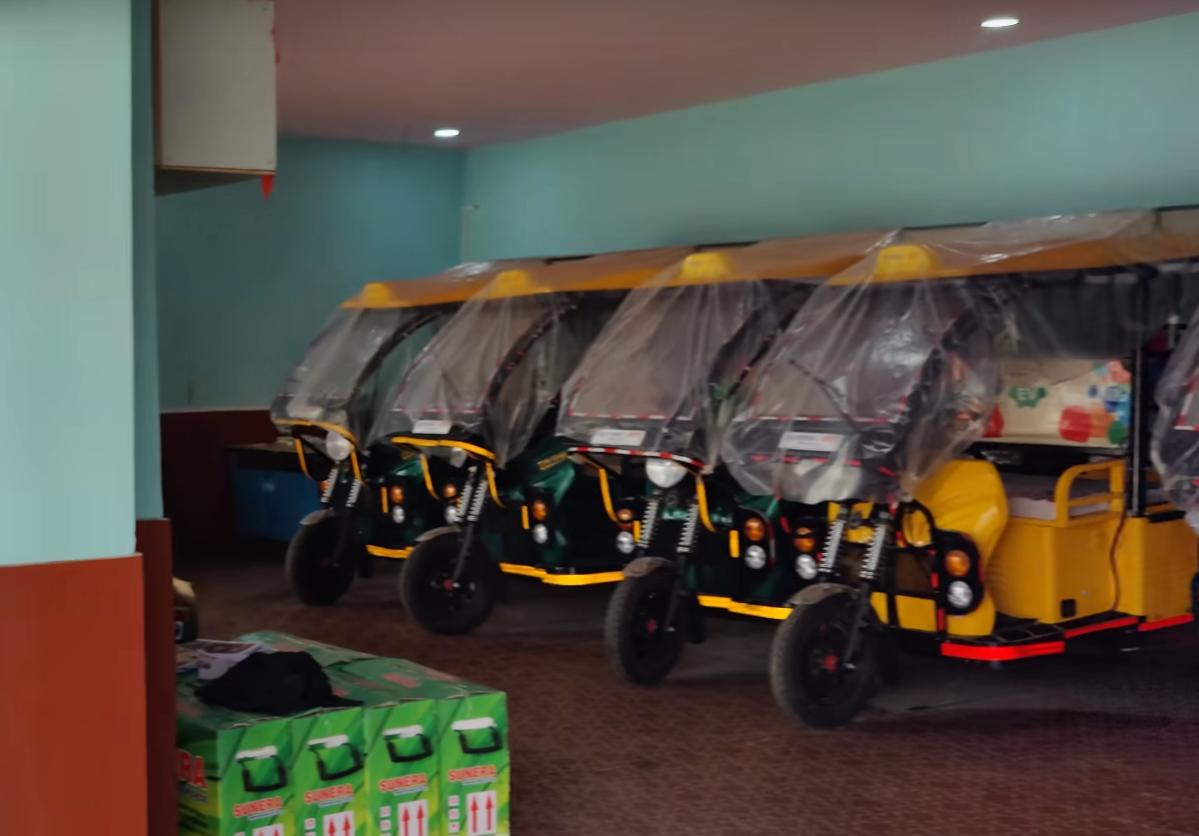e-rickshaw: (758, 191, 1199, 738), (549, 200, 800, 684)
